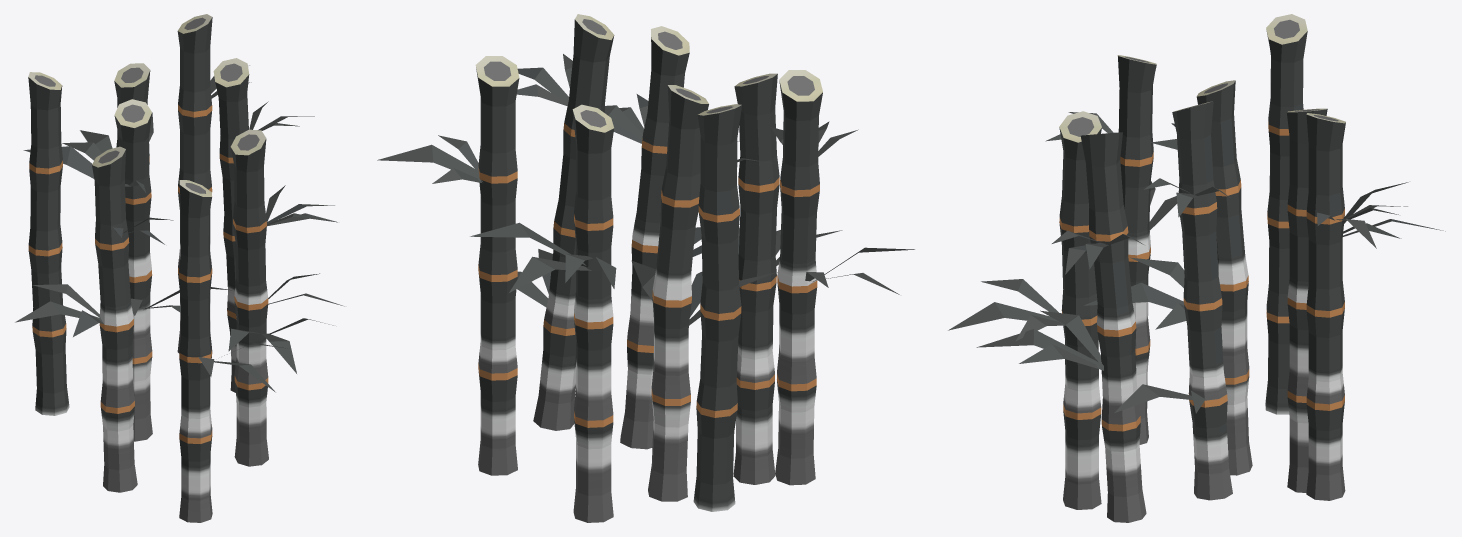
The model's file is Bamboo_2.fbx.
The picture shows the model from 3 angles, left to right: view 1: azimuth 30°, elevation 25°; view 2: azimuth 150°, elevation 25°; view 3: azimuth 270°, elevation 25°; orthographic projection. The views are drawn at different scales.
Parts seen in each view (by area): view 1: Bamboo_2; view 2: Bamboo_2; view 3: Bamboo_2.
Boxes of the visible parts, x1,y1,x2,y2 form: Bamboo_2: (15,14,344,522); Bamboo_2: (377,14,914,522); Bamboo_2: (948,14,1445,522).
Bounding box in the file's own units: 1.14 × 1.28 × 1.29.
